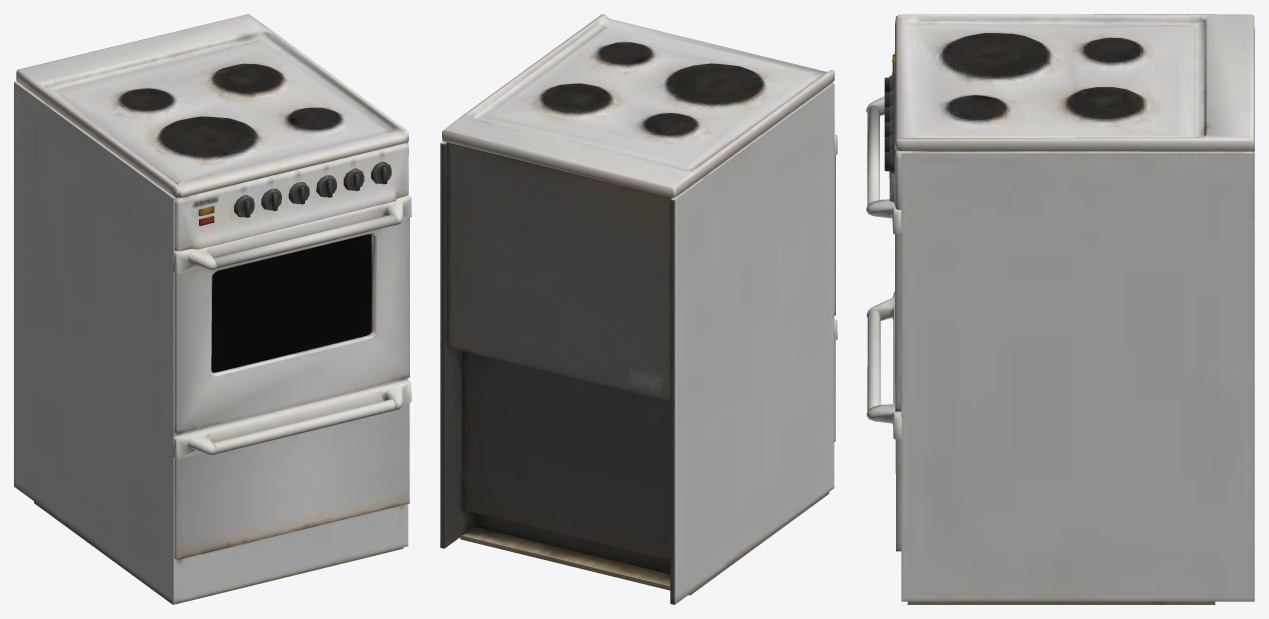
The model's file is electric_stove.glb.
The picture shows the model from 3 angles, left to right: view 1: azimuth 30°, elevation 25°; view 2: azimuth 150°, elevation 25°; view 3: azimuth 270°, elevation 25°; orthographic projection. The views are drawn at different scales.
Parts seen in each view (by area): view 1: stovetop, door_top; view 2: stovetop; view 3: stovetop.
Boxes of the visible parts, bbox=[...] form: stovetop: bbox=[14, 14, 411, 604]; door_top: bbox=[211, 234, 371, 372]; stovetop: bbox=[440, 14, 837, 604]; stovetop: bbox=[866, 14, 1254, 604].
Bounding box in the file's own units: 0.5026 × 0.8586 × 0.6476.
2 materials, 2 textured.
